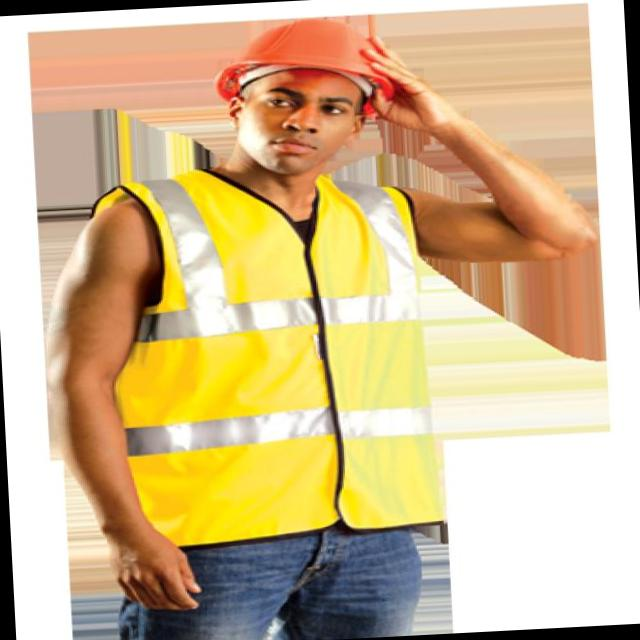Helmet: (205, 2, 434, 120)
Vest: (98, 146, 490, 558)
